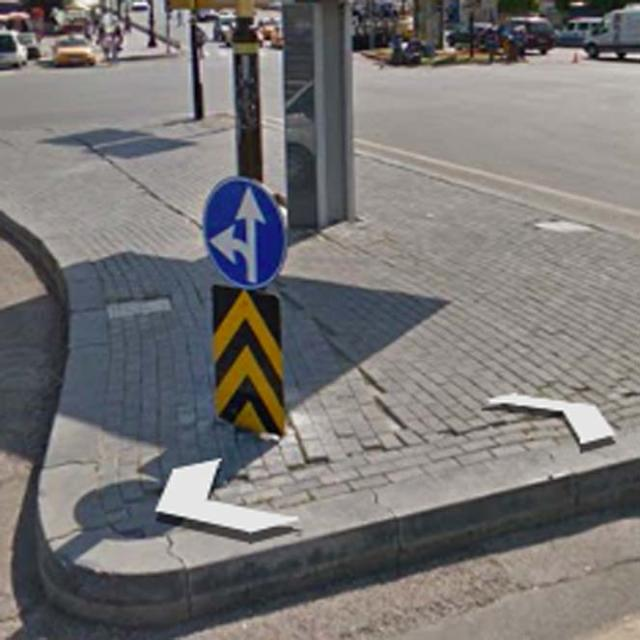ilerisol: (202, 173, 286, 290)
